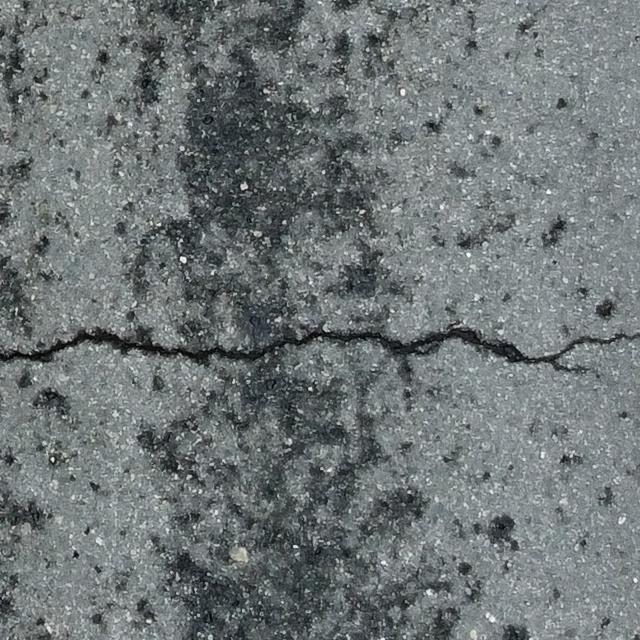TransverseCrack: (1, 319, 640, 370)
